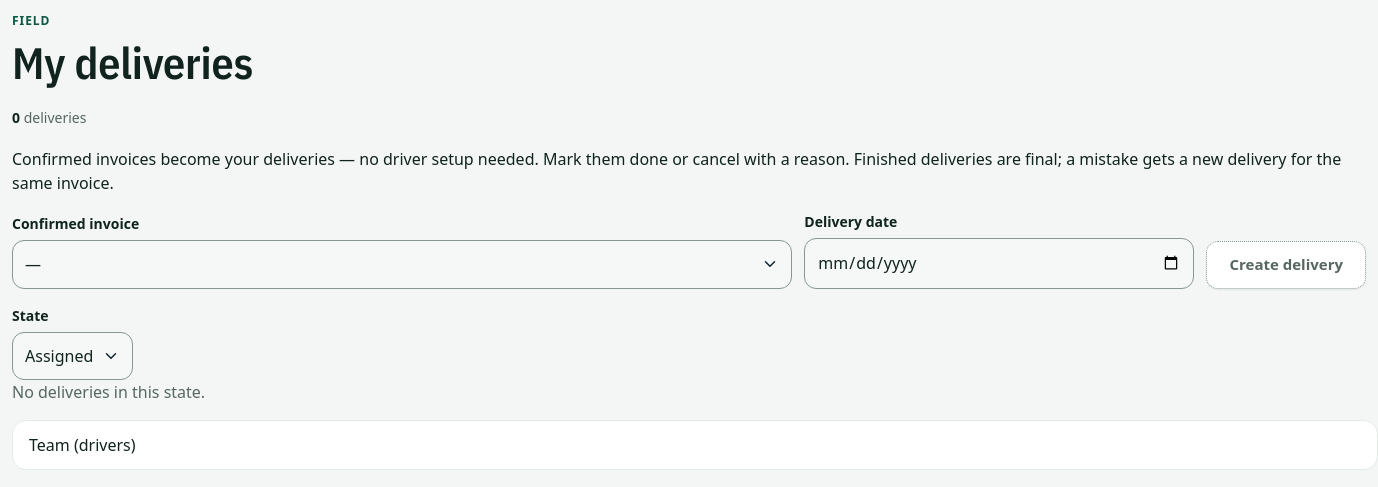
Test: choosing an invoice to deliver brings its delivery date with it
Select "2026-000001 · Corner Shop · 30.00 $ · 2026-09-30" in the dropdown labelled "Confirmed invoice" at (402, 264), box [12,240,792,289]
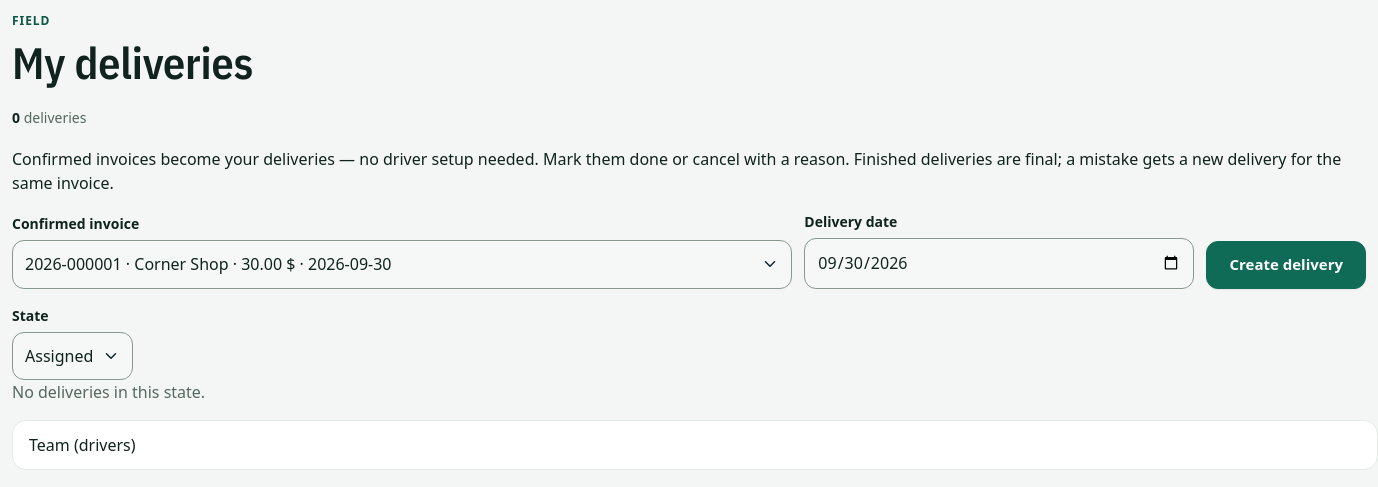
Check: the date field labelled "Delivery date" holds "2026-09-30", box [804,238,1194,289]
